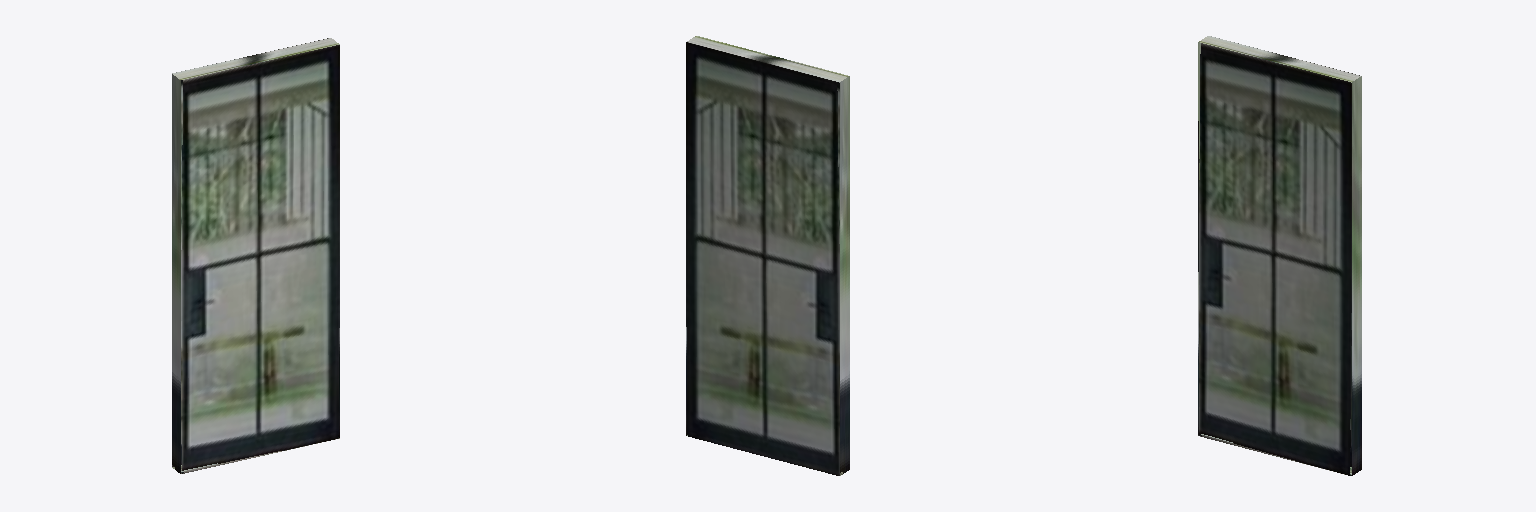
3 renders of one model, left to right at view 1: azimuth 30°, elevation 25°; view 2: azimuth 150°, elevation 25°; view 3: azimuth 330°, elevation 25°, orthographic.
Visible parts, largest first — view 1: PuertaDer1:pasted__pCube12group14 group; view 2: PuertaDer1:pasted__pCube12group14 group; view 3: PuertaDer1:pasted__pCube12group14 group.
Part boxes in pixels (x1,y1,x2,y2): PuertaDer1:pasted__pCube12group14 group: (172,38,339,473); PuertaDer1:pasted__pCube12group14 group: (686,36,849,475); PuertaDer1:pasted__pCube12group14 group: (1198,36,1361,475).
Bounding box in the file's own units: 1.91 × 4.58 × 0.2609.
1 materials, 1 textured.